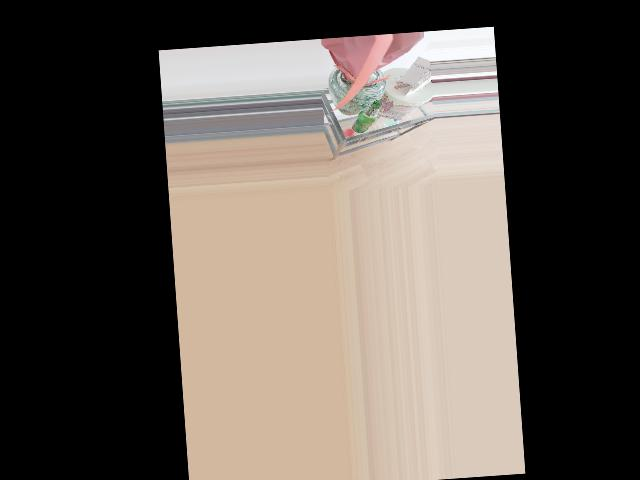beer: (349, 100, 383, 133)
